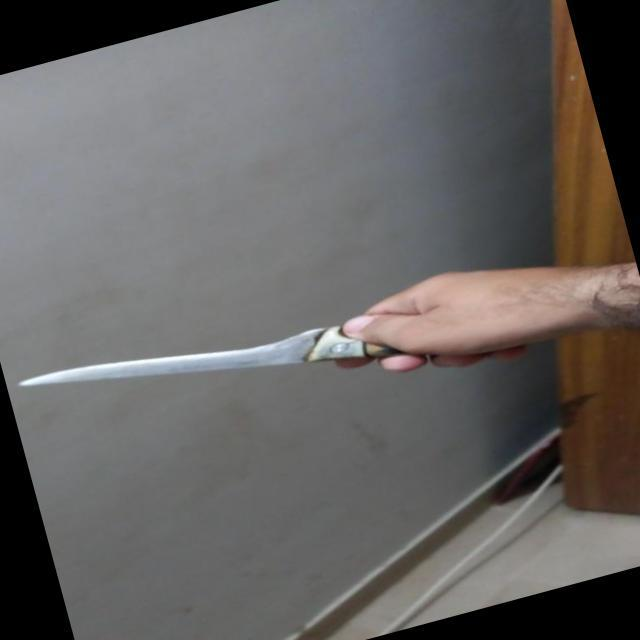Knife: (5, 214, 640, 451)
